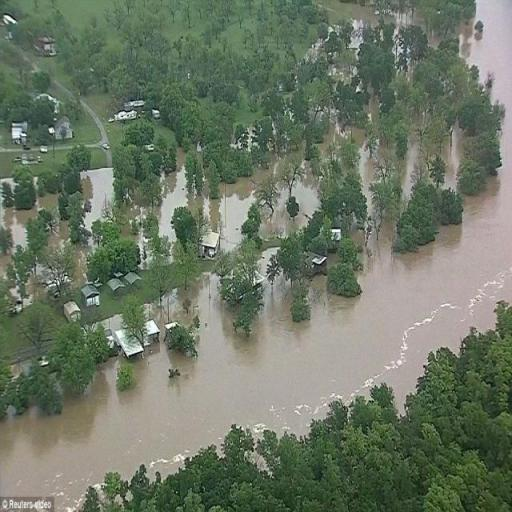flood: (0, 0, 512, 512), (0, 0, 512, 315)
house: (92, 313, 146, 358), (140, 308, 162, 346), (199, 230, 222, 260), (9, 118, 29, 144), (62, 300, 84, 322), (56, 117, 76, 140), (82, 285, 100, 308)
